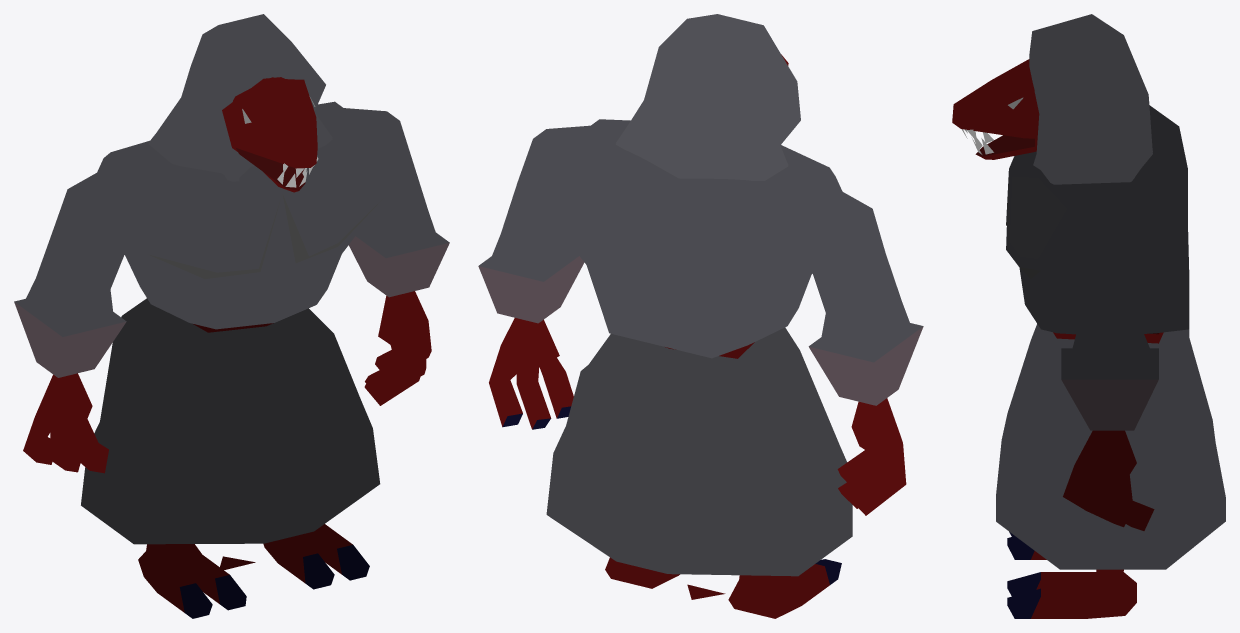
Rendered from healers.glb.
The picture shows the model from 3 angles, left to right: view 1: azimuth 30°, elevation 25°; view 2: azimuth 150°, elevation 25°; view 3: azimuth 270°, elevation 25°; orthographic projection. The views are drawn at different scales.
Visible parts, largest first — view 1: runescapemodel, runescapemodel.001, runescapemodel.002; view 2: runescapemodel, runescapemodel.001, runescapemodel.002; view 3: runescapemodel, runescapemodel.001, runescapemodel.002.
Boxes of the visible parts, x1,y1,x2,y2 form: runescapemodel: [14, 101, 449, 473]; runescapemodel.001: [81, 298, 380, 618]; runescapemodel.002: [148, 14, 332, 192]; runescapemodel: [478, 119, 923, 515]; runescapemodel.001: [546, 327, 852, 618]; runescapemodel.002: [616, 14, 800, 180]; runescapemodel: [1006, 105, 1189, 530]; runescapemodel.001: [996, 324, 1225, 618]; runescapemodel.002: [952, 14, 1152, 184].
Size of the model in its own units: 325 by 418 by 188.
